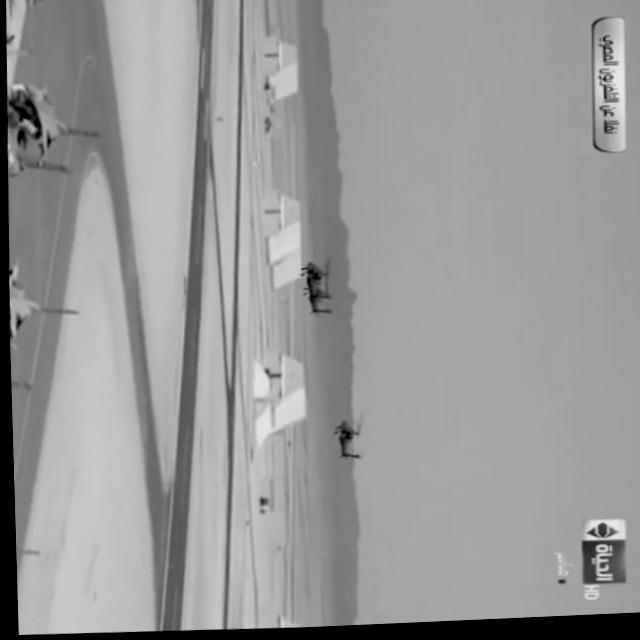helikopter: (282, 253, 368, 333), (308, 399, 387, 477)
